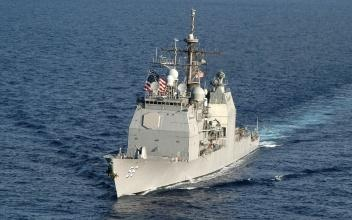warship: (111, 1, 259, 196)
